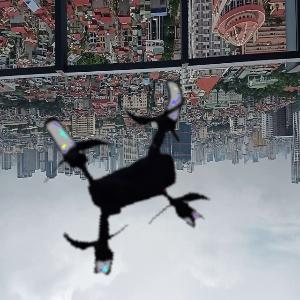drone: (16, 62, 228, 274)
